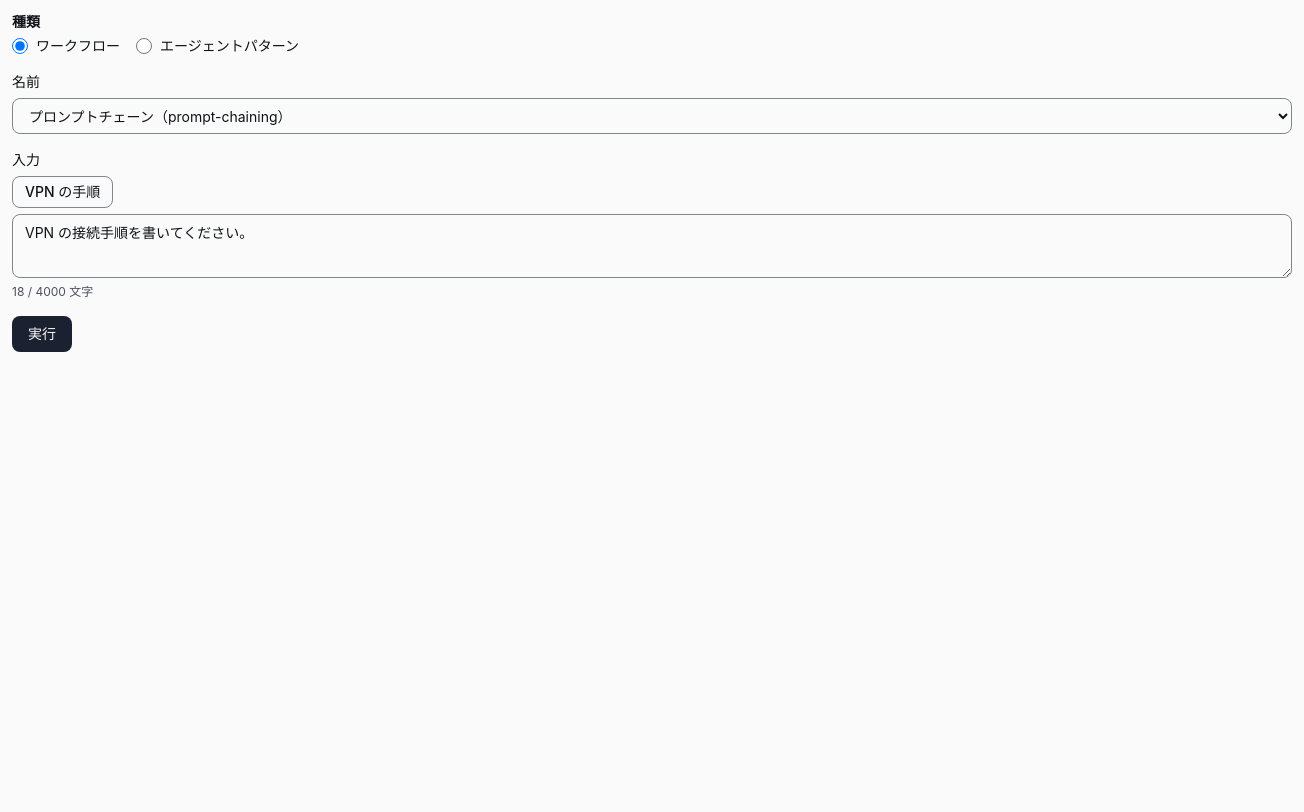
WorkflowPanel run › blocks a second run while one is in flight and shows the progress
Click the button "実行" at (42, 334), box [12,316,72,352]
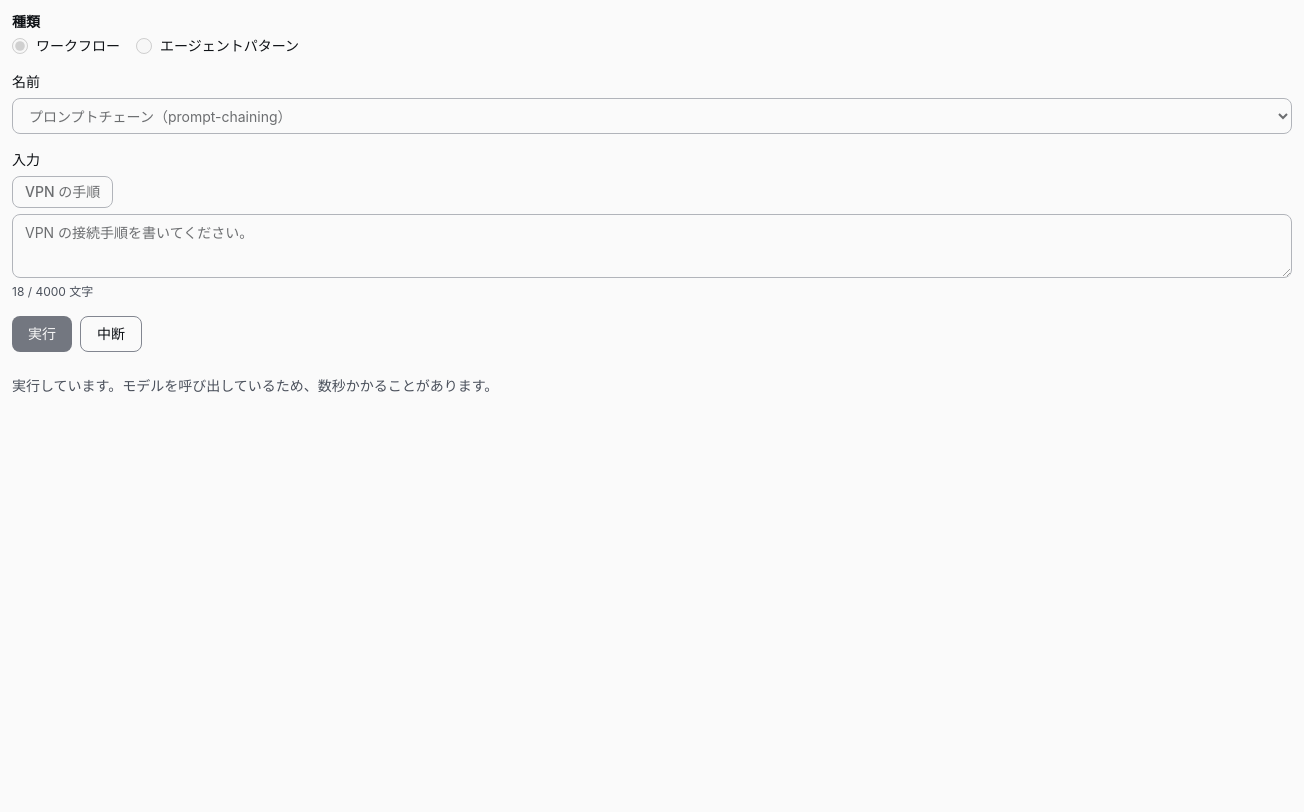
Expected: the button "実行" is disabled, [12,316,72,352]
Expected: the message named "実行の状態" shows "実行しています", [12,377,498,394]
Submit the form "実行", box [12,12,1292,352]
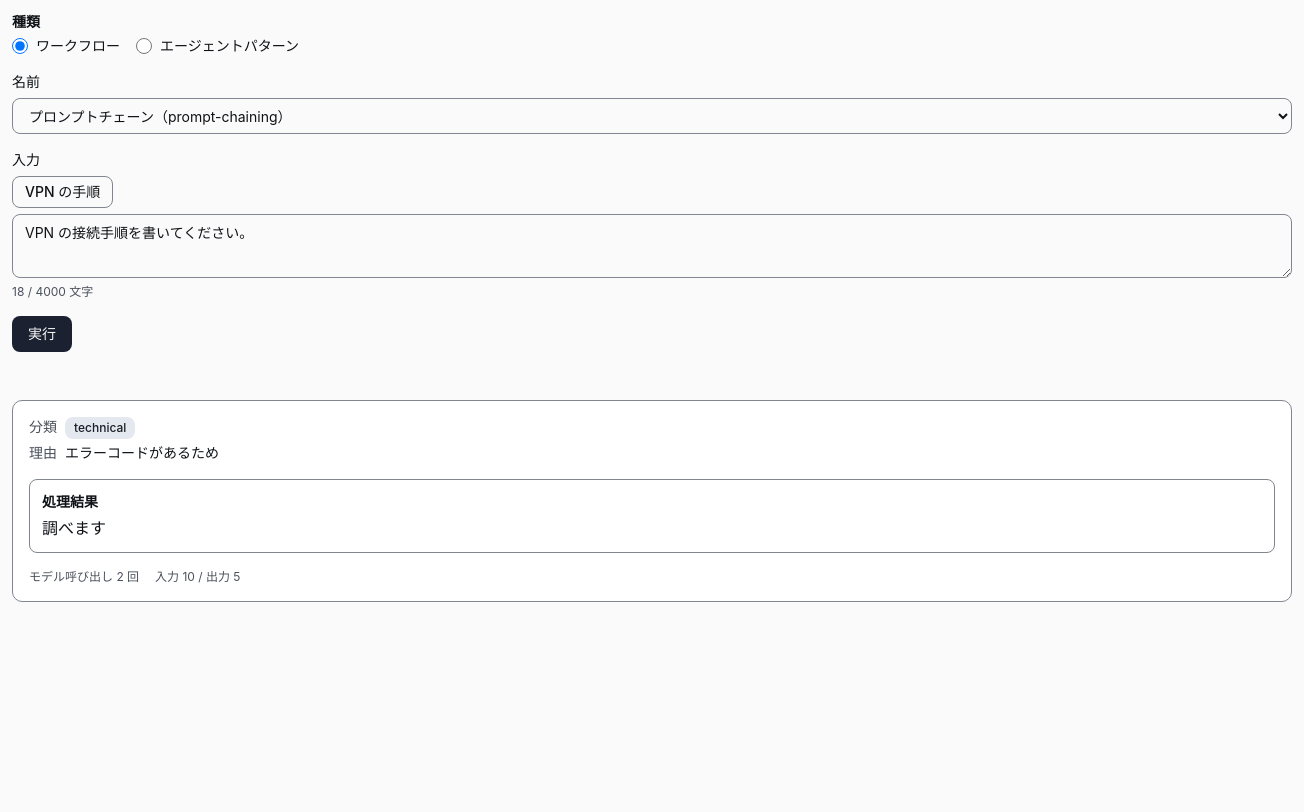
Expected: the element named "実行結果" is shown, [12,400,1292,602]
Expected: the button "実行" is enabled, [12,316,72,352]
